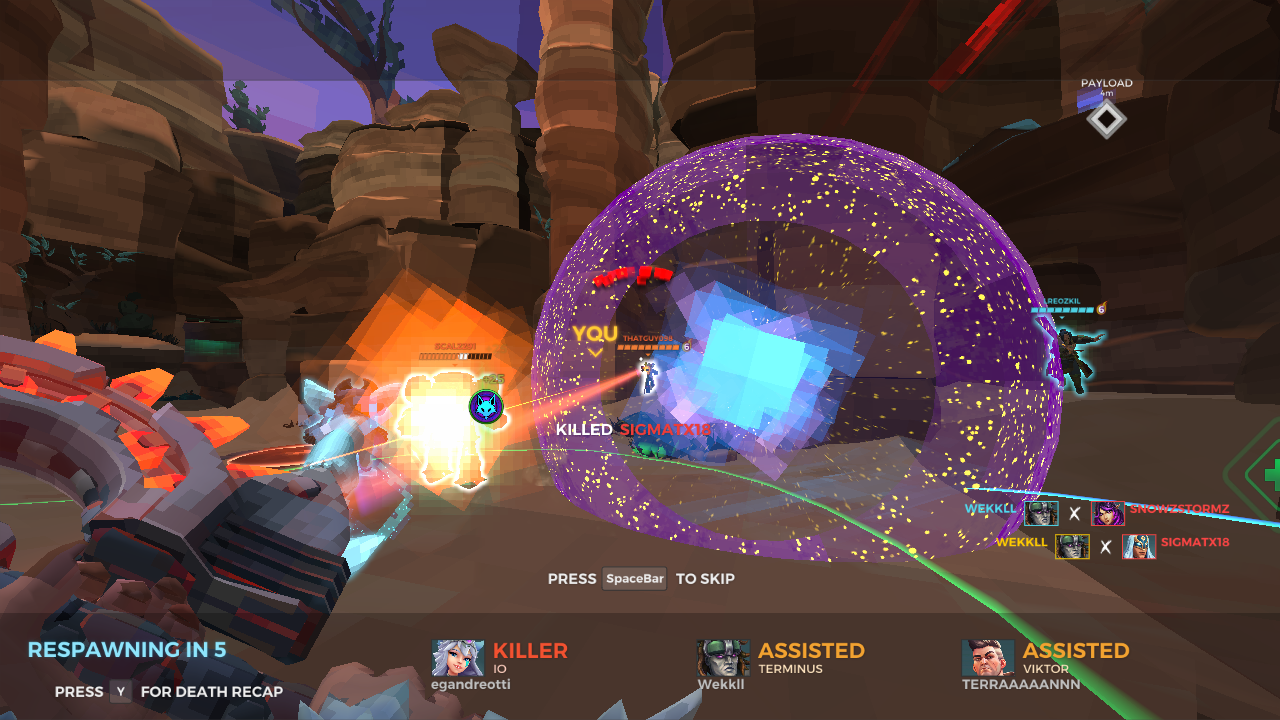model: (391, 370, 510, 494), (636, 354, 662, 399)
